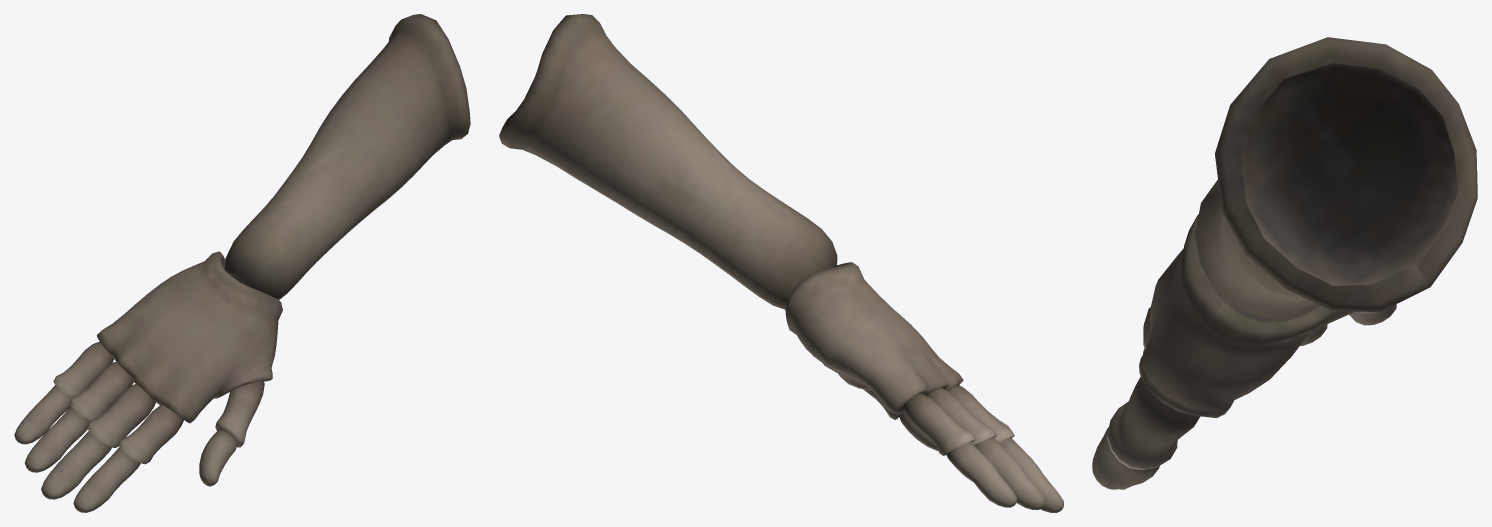
File: Hand.fbx
The picture shows the model from 3 angles, left to right: view 1: azimuth 30°, elevation 25°; view 2: azimuth 150°, elevation 25°; view 3: azimuth 270°, elevation 25°; orthographic projection. The views are drawn at different scales.
Visible parts, largest first — view 1: Hand_1; view 2: Hand_1; view 3: Hand_1.
Part boxes in pixels (left/top/right/bottom): Hand_1: left=14, top=14, right=470, bottom=512; Hand_1: left=499, top=14, right=1063, bottom=512; Hand_1: left=1092, top=37, right=1477, bottom=489.
Size of the model in its own units: 91.07 by 70.51 by 33.31.
